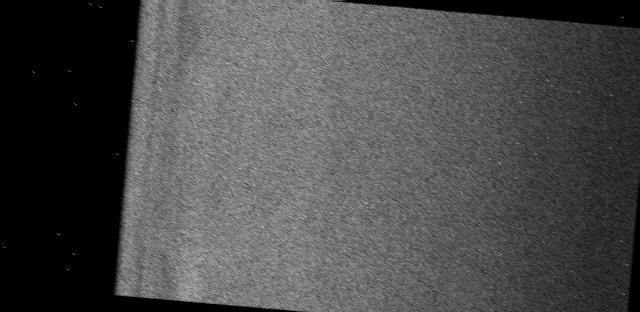silk_spot: (228, 0, 486, 310)
